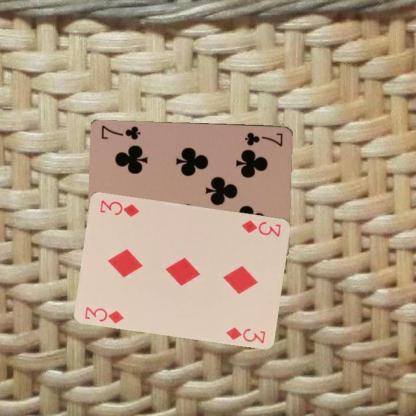3d: (82, 303, 125, 325), (239, 217, 283, 238)
7c: (242, 130, 284, 147)
